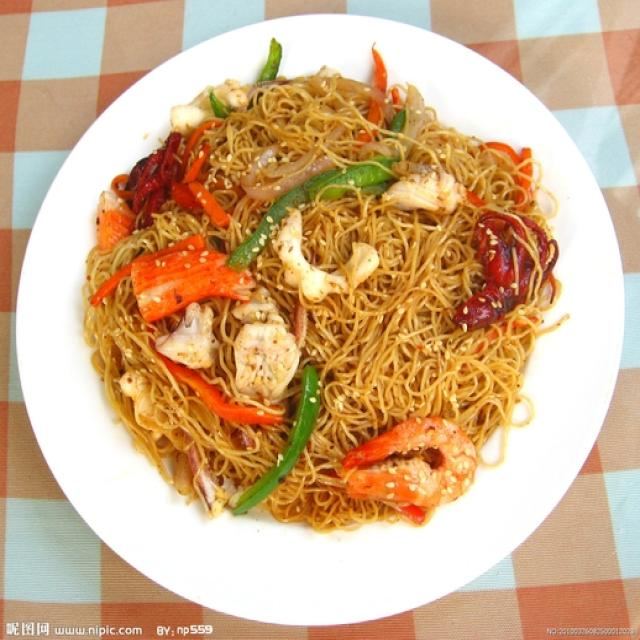面条主食: (21, 8, 621, 612)
